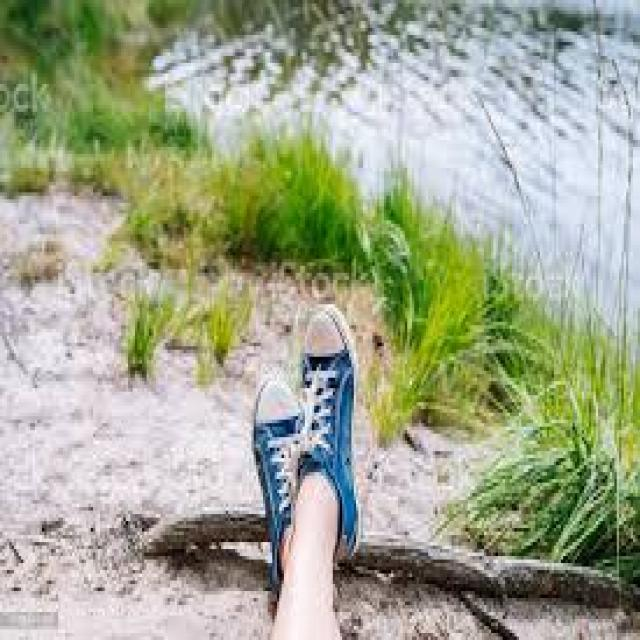shoe: (296, 295, 376, 567), (248, 370, 318, 595)
